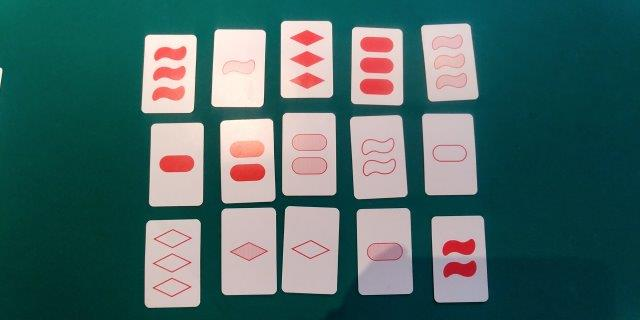1ED: (288, 209, 334, 291)
1EP: (427, 116, 471, 193)
1FP: (154, 125, 199, 205)
1HD: (224, 211, 274, 291)
1HP: (359, 211, 408, 291)
1HW: (217, 32, 261, 104)
2EW: (355, 119, 400, 196)
2FP: (223, 121, 271, 200)
2FW: (437, 219, 482, 300)
2HP: (285, 115, 333, 194)
3ED: (148, 222, 197, 305)
3FD: (283, 22, 329, 96)
3FP: (355, 30, 399, 103)
3FW: (147, 36, 190, 111)
3HW: (429, 29, 470, 97)
